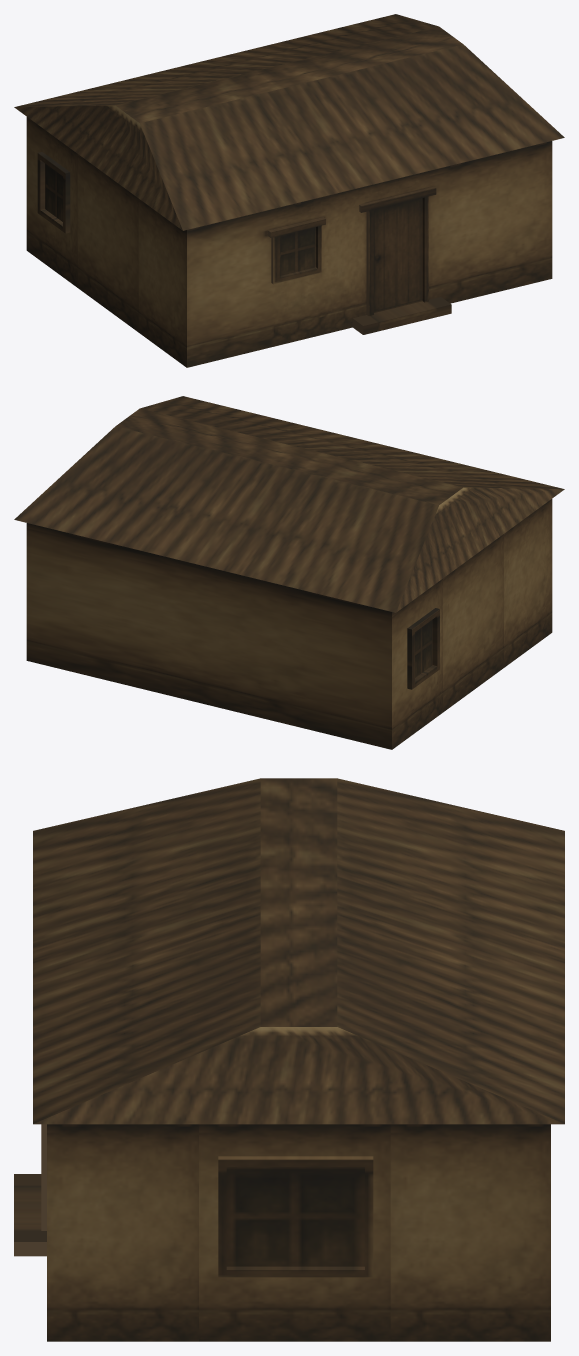
The model's file is Cabana2.fbx.
3 renders of one model, top to bottom at view 1: azimuth 30°, elevation 25°; view 2: azimuth 150°, elevation 25°; view 3: azimuth 270°, elevation 25°, orthographic. The views are drawn at different scales.
Parts seen in each view (by area): view 1: hogarCura.001; view 2: hogarCura.001; view 3: hogarCura.001.
Boxes of the visible parts, left/top/right/bottom form: hogarCura.001: left=14, top=14, right=564, bottom=367; hogarCura.001: left=14, top=396, right=564, bottom=749; hogarCura.001: left=14, top=778, right=564, bottom=1341.
Bounding box in the file's own units: 840 × 399 × 667.
Materials: 1 (1 with a texture image).
